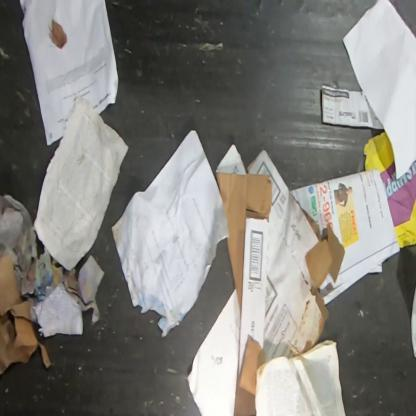cardboard: (215, 144, 346, 415), (0, 250, 53, 376)
soft_plastic: (363, 132, 416, 248)
